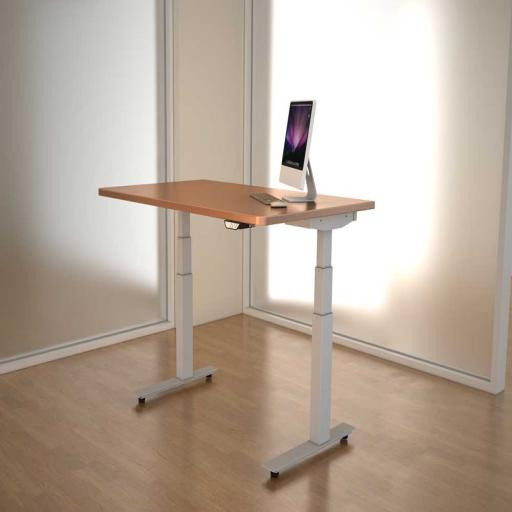desk: (98, 179, 374, 478)
